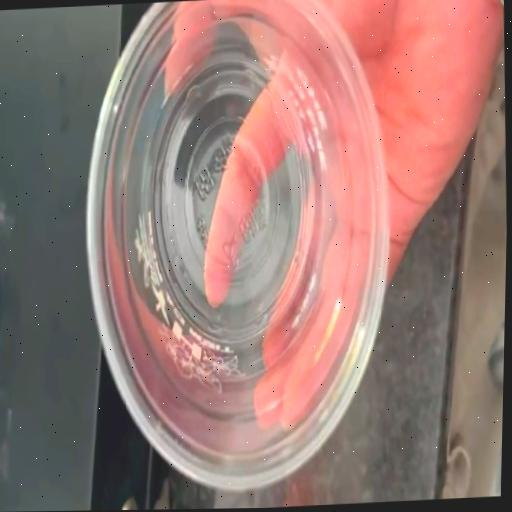ly_nhua: (86, 0, 387, 488)
